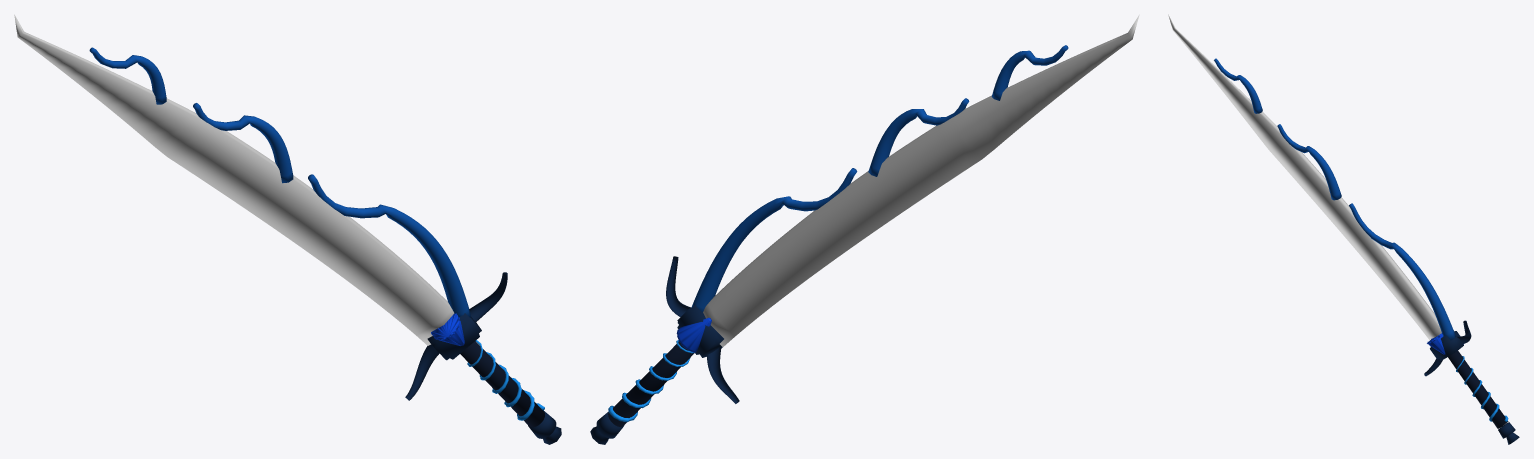
The model's file is Weapon_Sword2.obj.
3 views of the same model, side by side, from view 1: azimuth 30°, elevation 25°; view 2: azimuth 150°, elevation 25°; view 3: azimuth 330°, elevation 25° (orthographic). The views are drawn at different scales.
Visible parts, largest first — view 1: Sword_SaberBlade, Sword_SpineSwirls, Sword_Crossguard, Sword_Hilt, Sword_SpiralWrap, Sword_CenterGem, Sword_Pommel; view 2: Sword_SaberBlade, Sword_SpineSwirls, Sword_Crossguard, Sword_Hilt, Sword_SpiralWrap, Sword_CenterGem, Sword_Pommel; view 3: Sword_SaberBlade, Sword_SpineSwirls, Sword_Hilt, Sword_Crossguard.
Part boxes in pixels (<box>): Sword_SaberBlade: <box>14,14,454,345</box>; Sword_SpineSwirls: <box>89,47,470,317</box>; Sword_Crossguard: <box>405,272,507,400</box>; Sword_Hilt: <box>460,341,544,427</box>; Sword_SpiralWrap: <box>467,340,544,420</box>; Sword_CenterGem: <box>431,313,464,345</box>; Sword_Pommel: <box>528,410,561,444</box>; Sword_SaberBlade: <box>703,14,1139,346</box>; Sword_SpineSwirls: <box>691,45,1068,312</box>; Sword_Crossguard: <box>666,256,739,403</box>; Sword_Hilt: <box>608,341,694,426</box>; Sword_SpiralWrap: <box>608,340,694,422</box>; Sword_CenterGem: <box>676,317,711,352</box>; Sword_Pommel: <box>590,411,623,444</box>; Sword_SaberBlade: <box>1168,14,1441,340</box>; Sword_SpineSwirls: <box>1214,58,1455,340</box>; Sword_Hilt: <box>1448,351,1508,428</box>; Sword_Crossguard: <box>1424,320,1471,376</box>.
Bounding box in the file's own units: 0.9733 × 0.9521 × 0.0842.
